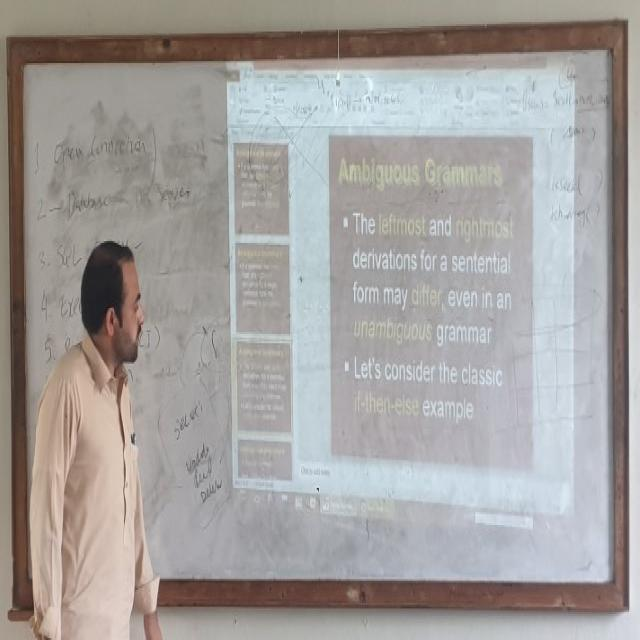Instructor: (51, 228, 150, 640)
Slide: (229, 51, 577, 545)
White-board: (16, 41, 621, 600)
